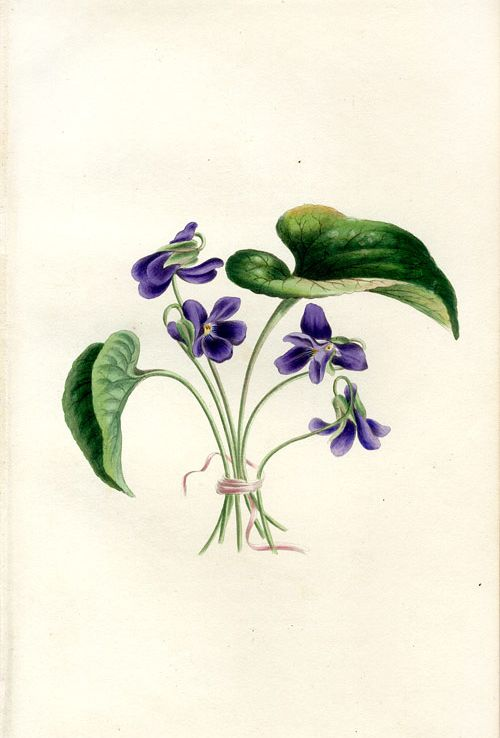violet: (282, 297, 370, 381), (305, 375, 391, 454), (123, 233, 224, 300), (171, 289, 249, 362)
